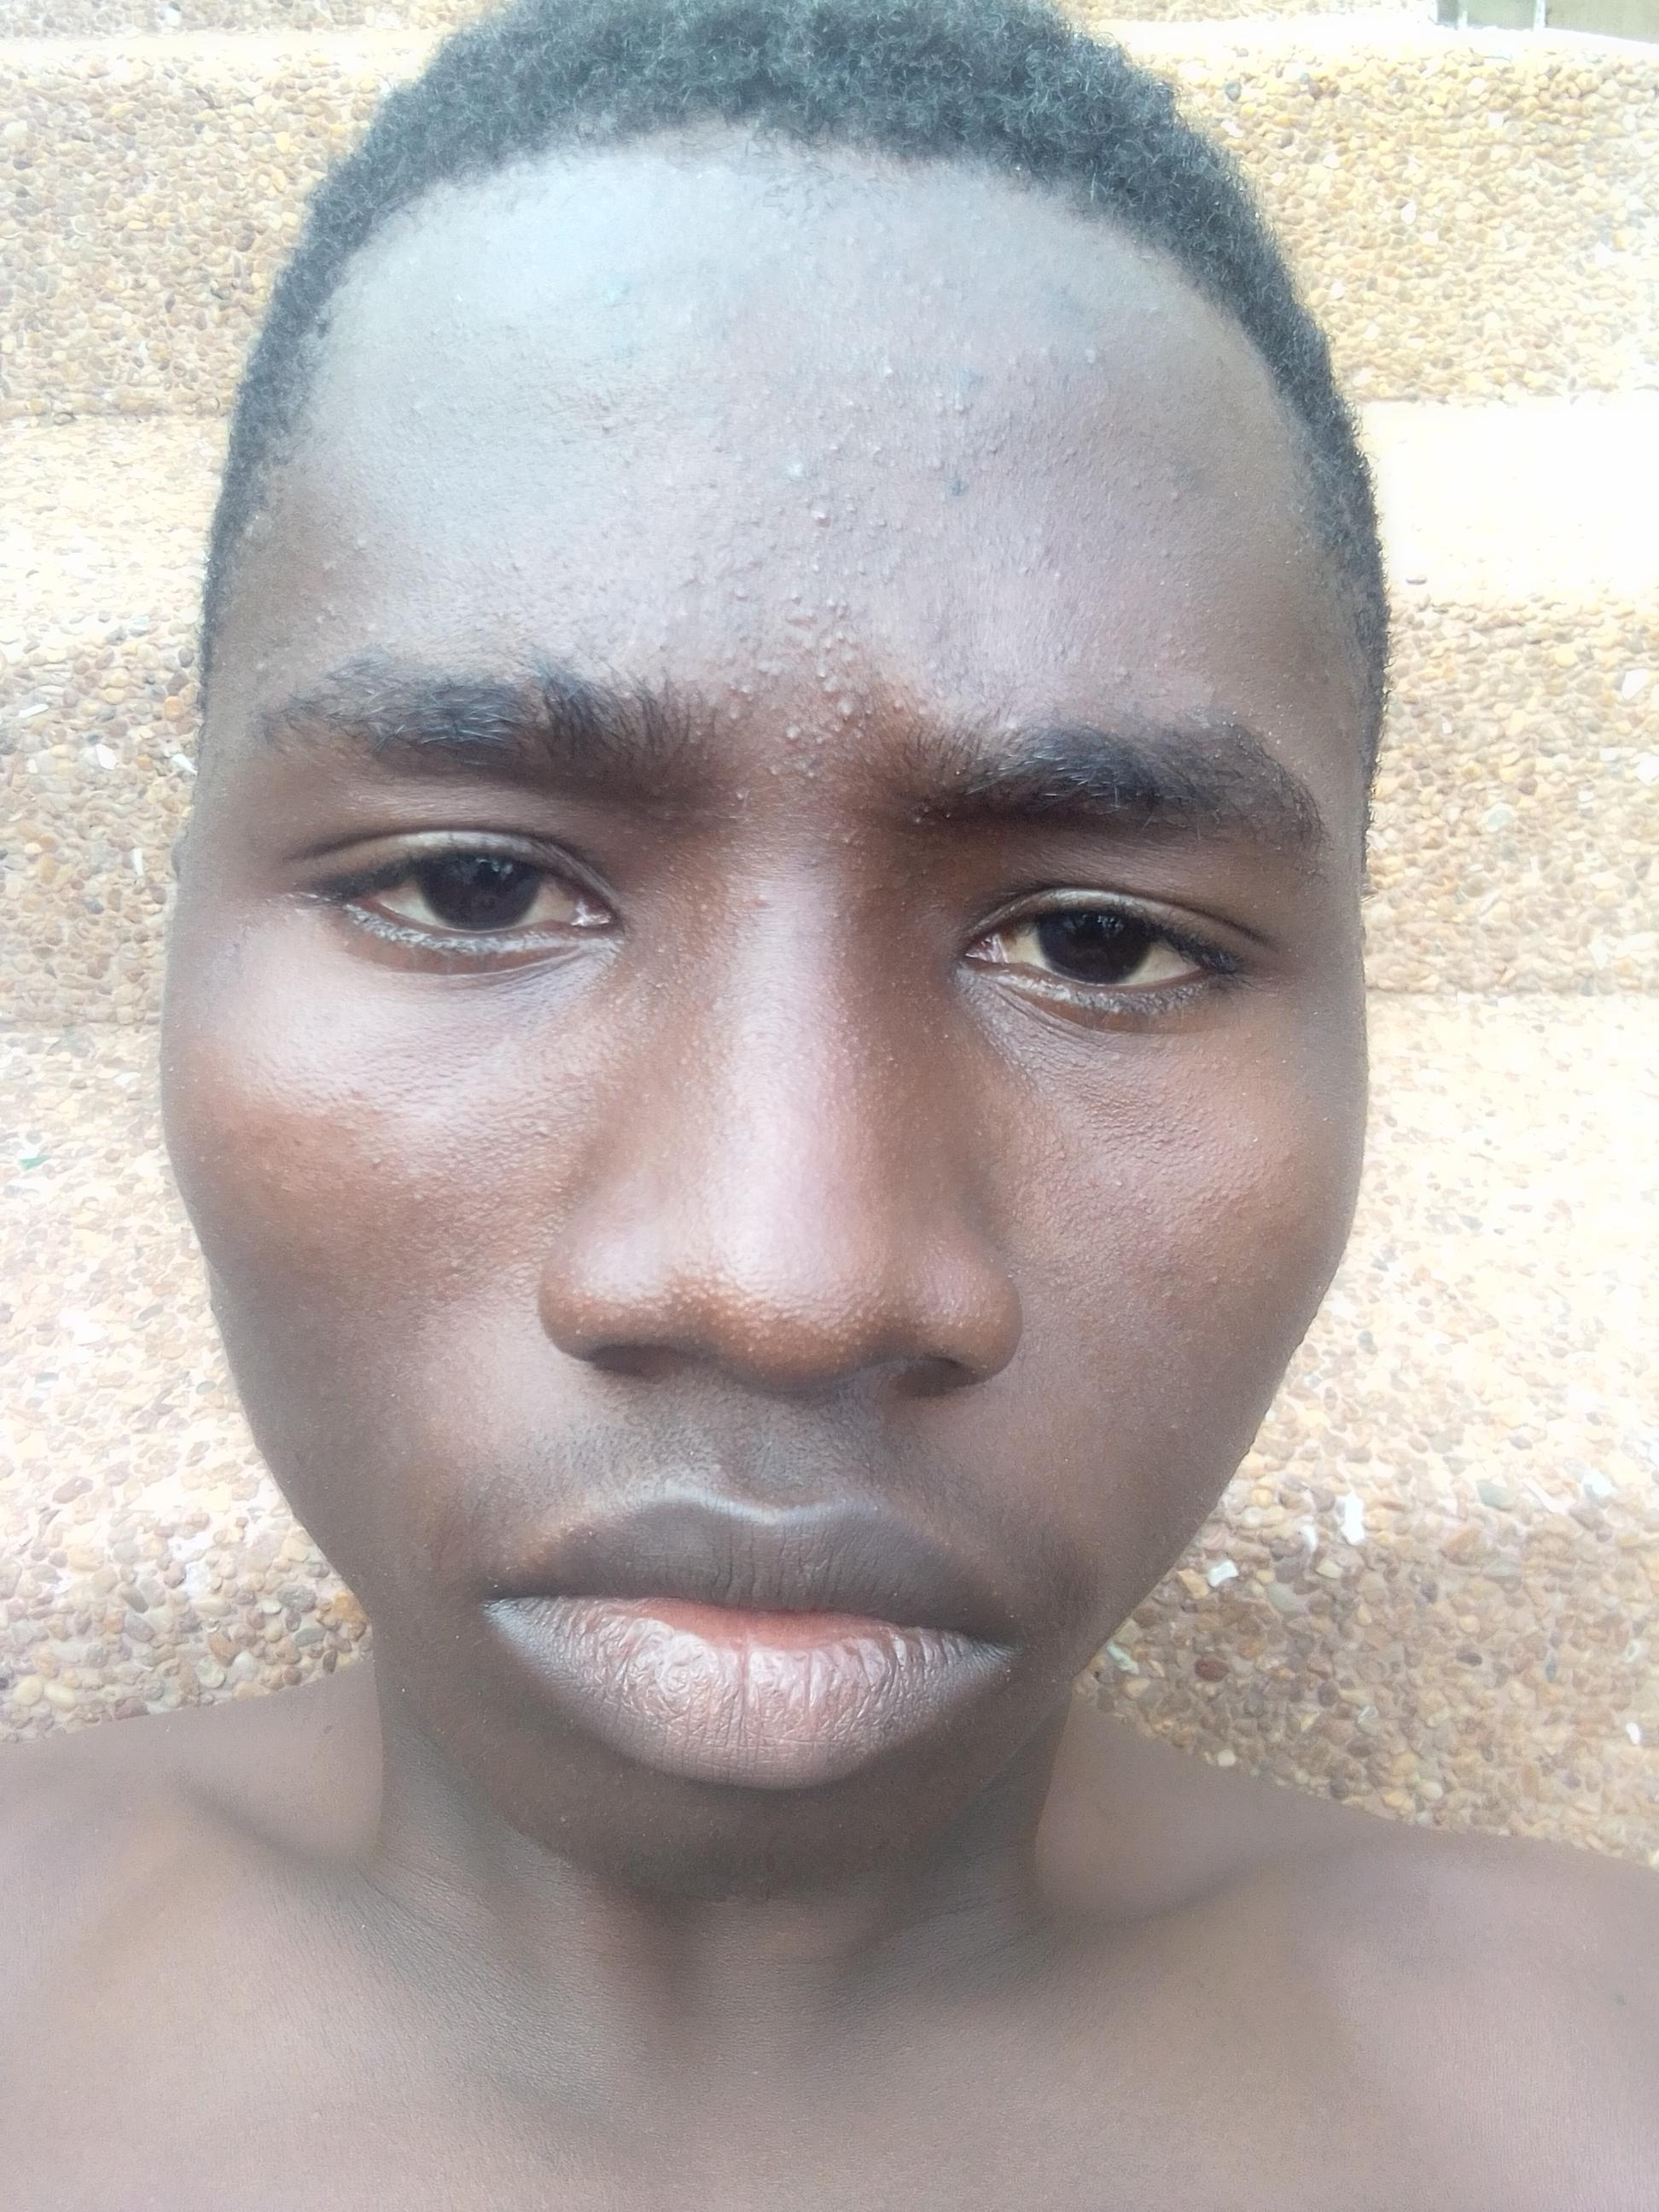Acne: (706, 498, 873, 819), (767, 359, 901, 484), (1014, 340, 1114, 486), (922, 361, 1009, 510), (307, 531, 371, 637), (1021, 524, 1075, 608), (648, 542, 706, 608), (746, 881, 782, 920), (249, 648, 268, 690)
